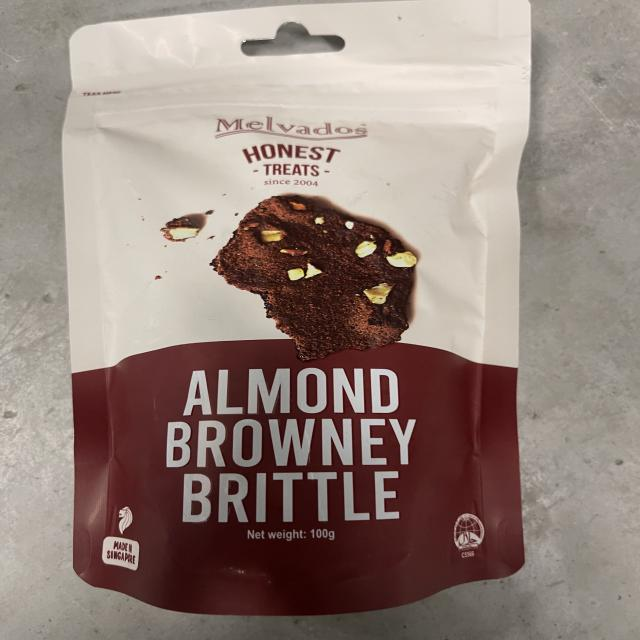object_name: (74, 34, 502, 577)
